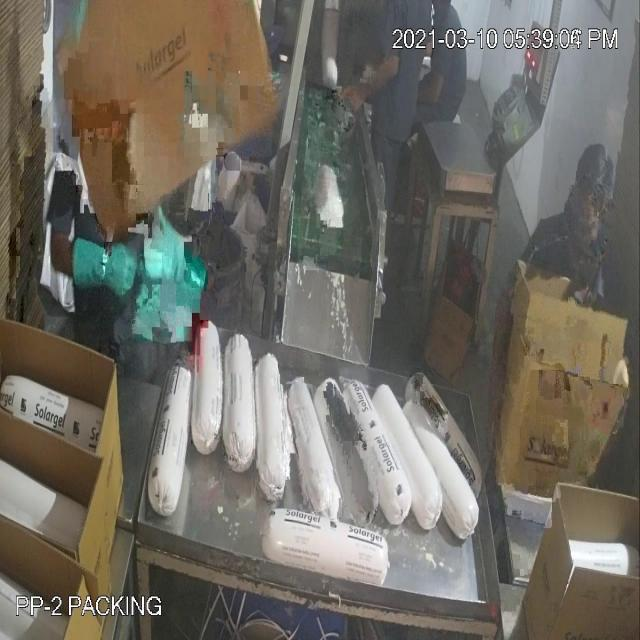No_Gloves: (42, 62, 504, 358)
